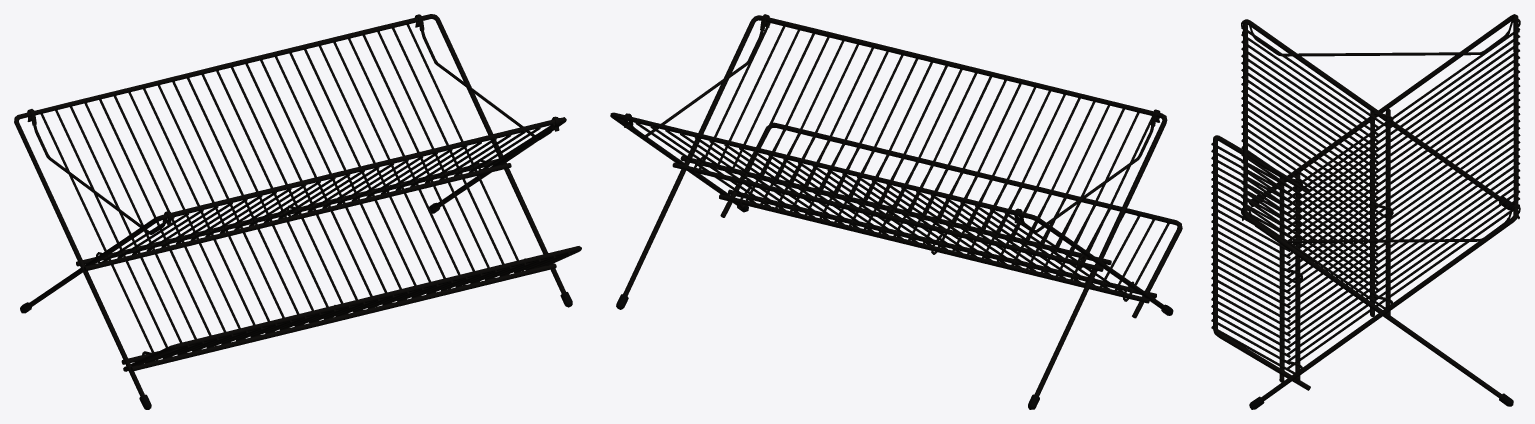
The model's file is kvot_suszarka_do_naczyn_10605315.glb.
3 views of the same model, side by side, from view 1: azimuth 30°, elevation 25°; view 2: azimuth 150°, elevation 25°; view 3: azimuth 270°, elevation 25° (orthographic). The views are drawn at different scales.
Visible parts, largest first — view 1: kvot_suszarka_do_naczyn_10605315; view 2: kvot_suszarka_do_naczyn_10605315; view 3: kvot_suszarka_do_naczyn_10605315.
Boxes of the visible parts, x1,y1,x2,y2 form: kvot_suszarka_do_naczyn_10605315: (14, 14, 581, 409); kvot_suszarka_do_naczyn_10605315: (610, 14, 1182, 409); kvot_suszarka_do_naczyn_10605315: (1211, 14, 1520, 409).
Size of the model in its own units: 0.4979 by 0.2206 by 0.3153.
Materials: 1 (1 with a texture image).
